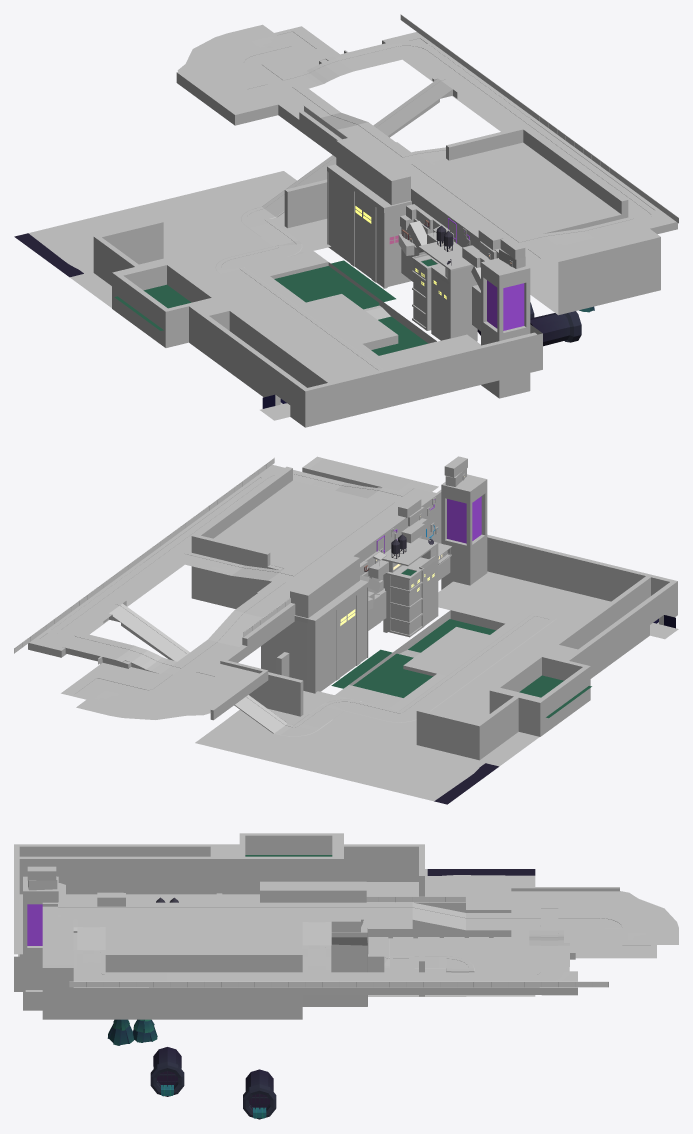
The model's file is EXT_DirtBottom_Foundation.fbx.
3 views of the same model, one above another, from view 1: azimuth 30°, elevation 25°; view 2: azimuth 150°, elevation 25°; view 3: azimuth 270°, elevation 25° (orthographic). The views are drawn at different scales.
Parts seen in each view (by area): view 1: Street_Middle, Street_Middle.002, Walls, Walls.004, Building.024, Building.029, Street.WalltoInnerCity, Energy.001, Water, Walls.008, Walls.026, Cylinder.738 (+3 smaller); view 2: Street_Middle.002, Street_Middle, Walls, Walls.004, Building.024, Building.029, Energy.001, Street.WalltoInnerCity, Water, Walls.008, Walls.026, Walls.006 (+2 smaller); view 3: Street_Middle, Walls.004, Street_Middle.002, Street.WalltoInnerCity, Walls, Building.024, Walls.026, Walls.008, Energy.001, Cylinder.738, Cylinder.739, Walls.009 (+3 smaller).
Boxes of the visible parts, x1,y1,x2,y2 form: Street_Middle: (177,24,657,261); Street_Middle.002: (14,88,480,381); Walls: (93,179,542,427); Walls.004: (382,32,677,315); Building.024: (327,136,411,288); Building.029: (412,241,477,341); Street.WalltoInnerCity: (141,259,332,420); Energy.001: (481,258,530,398); Water: (274,260,395,307); Walls.008: (176,71,341,157); Walls.026: (400,14,678,223); Cylinder.738: (530,311,581,346); Street_Middle.002: (121,571,610,804); Street_Middle: (47,472,438,719); Walls: (249,534,677,760); Walls.004: (28,456,438,657); Building.024: (257,553,368,693); Building.029: (382,538,438,637); Energy.001: (441,474,487,589); Street.WalltoInnerCity: (489,576,678,713); Water: (331,649,432,697); Walls.008: (210,603,295,720); Walls.026: (14,457,274,653); Walls.006: (354,490,441,580); Street_Middle: (58,891,678,981); Walls.004: (42,906,577,1019); Street_Middle.002: (18,869,535,996); Street.WalltoInnerCity: (19,846,343,894); Walls: (14,833,424,996); Building.024: (258,881,368,1006); Walls.026: (69,981,608,987); Walls.008: (363,887,619,938); Energy.001: (23,876,58,1010); Cylinder.738: (150,1047,184,1096); Cylinder.739: (243,1069,276,1119); Walls.009: (366,896,465,901).
Size of the model in its own units: 41029 by 18011 by 56649.
